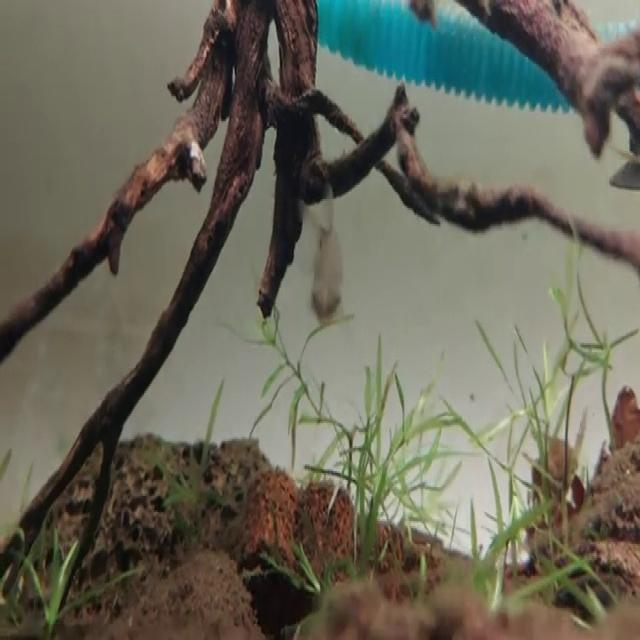Cakil Baligi: (301, 186, 346, 327)
